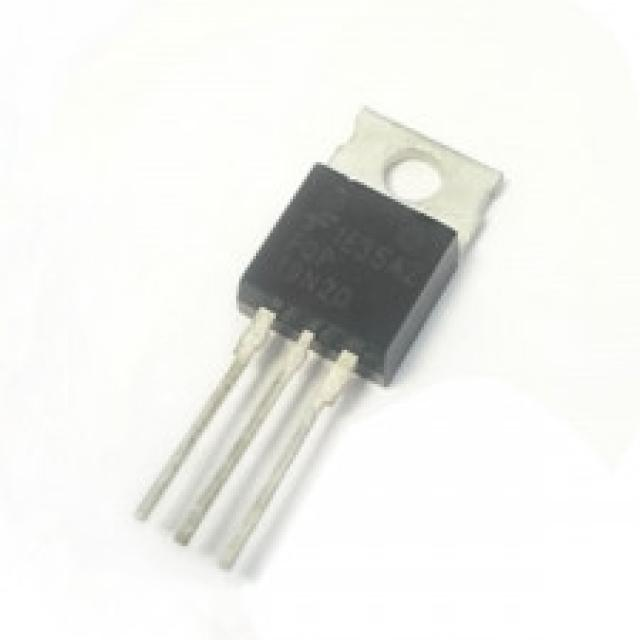Transistor: (142, 110, 499, 580)
